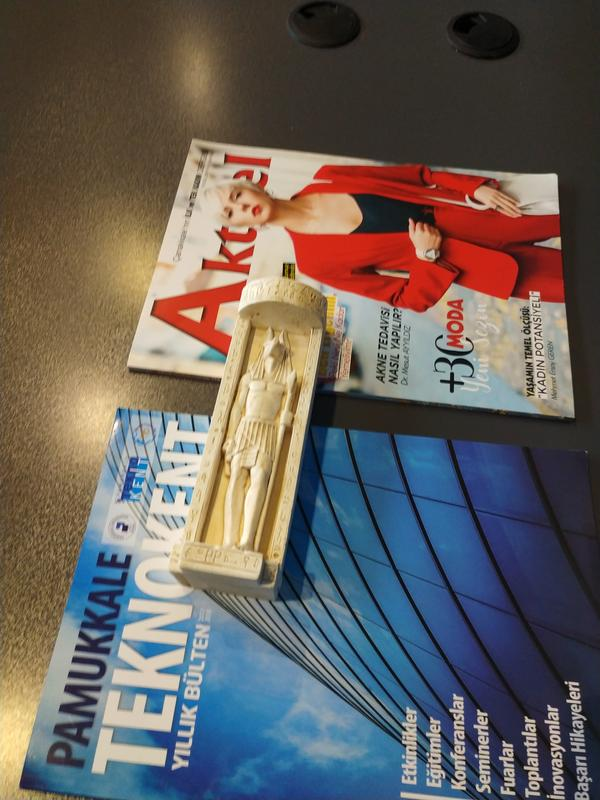heykel: (157, 268, 366, 610)
